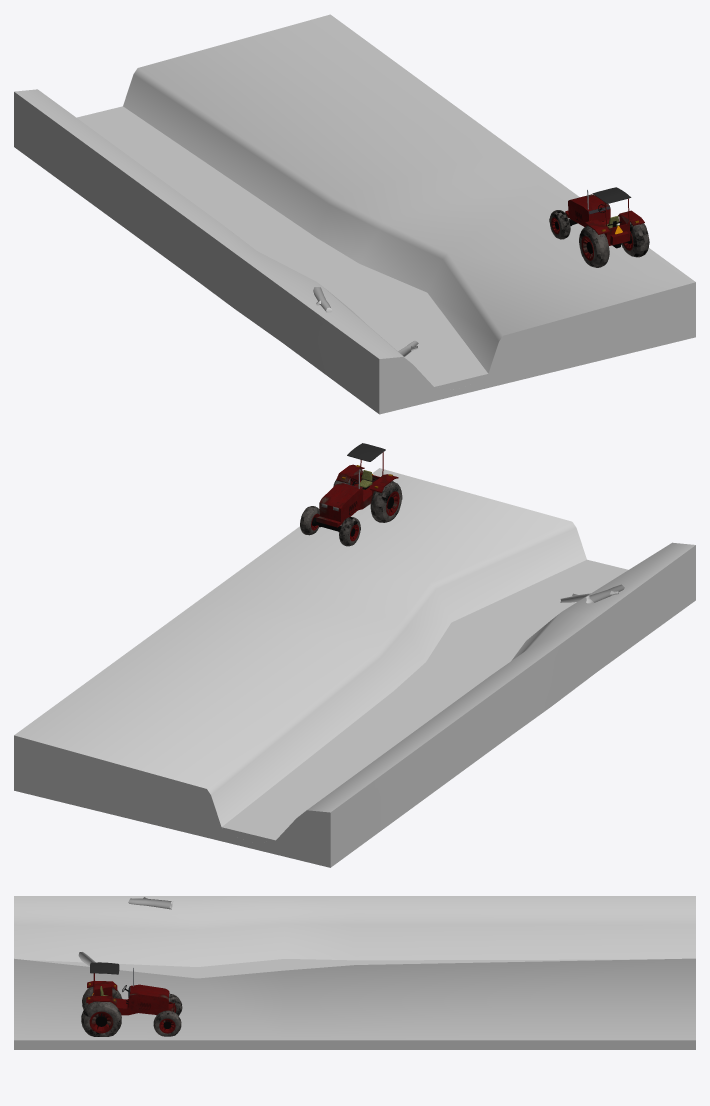
File: Stream.fbx
3 views of the same model, one above another, from view 1: azimuth 30°, elevation 25°; view 2: azimuth 150°, elevation 25°; view 3: azimuth 270°, elevation 25° (orthographic). The views are drawn at different scales.
Visible parts, largest first — view 1: Stream, Water, Tractor_lp; view 2: Stream, Water, Tractor_lp; view 3: Stream, Tractor_lp, Water.
Boxes of the visible parts, box(x1,y1,x2,y2) form: Stream: box(14, 14, 695, 414); Water: box(77, 106, 488, 389); Tractor_lp: box(549, 187, 649, 267); Stream: box(14, 468, 695, 867); Water: box(222, 559, 628, 843); Tractor_lp: box(300, 443, 402, 546); Stream: box(14, 896, 695, 1049); Tractor_lp: box(81, 962, 182, 1036); Water: box(27, 959, 629, 978).
Size of the model in its own units: 1502 by 527 by 3000.
